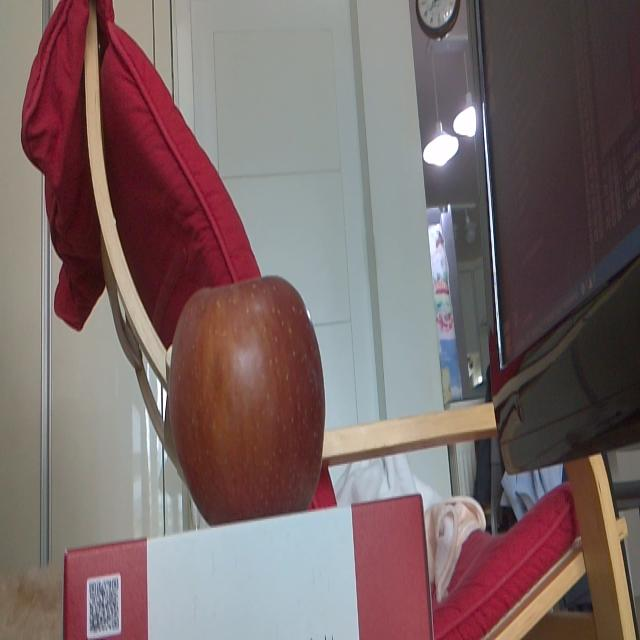apple: (167, 278, 325, 508)
